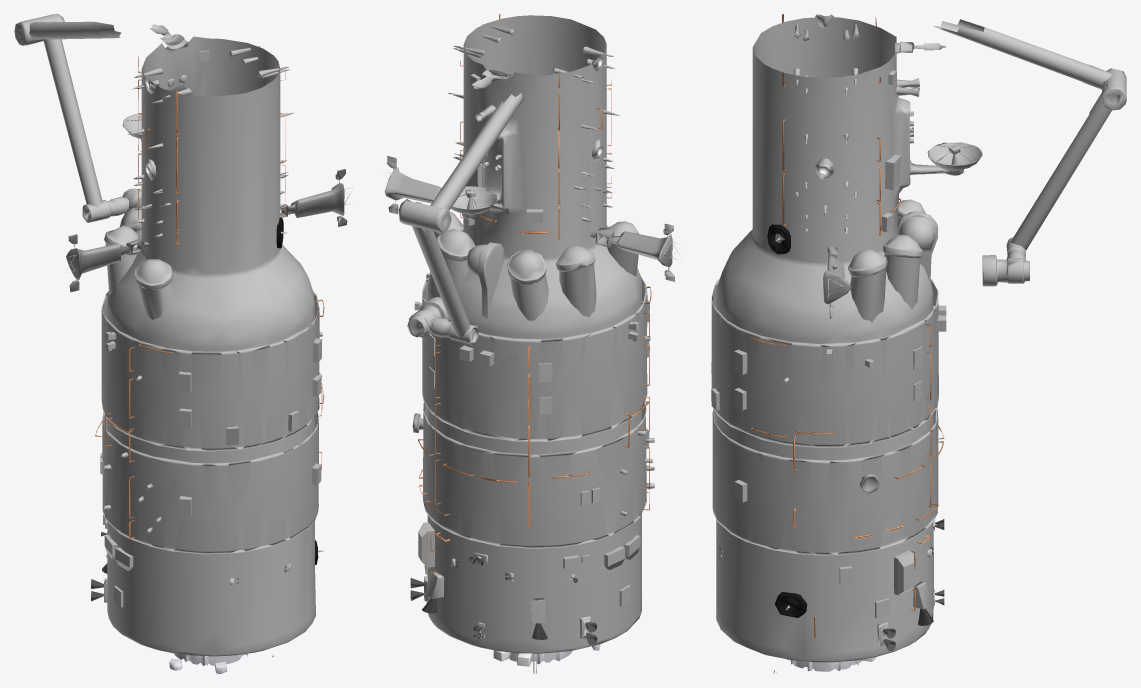
Rendered from tiangong-tianhe.glb.
3 renders of one model, left to right at view 1: azimuth 30°, elevation 25°; view 2: azimuth 150°, elevation 25°; view 3: azimuth 270°, elevation 25°, orthographic. The views are drawn at different scales.
Parts seen in each view (by area): view 1: tianhe; view 2: tianhe; view 3: tianhe.
Part boxes in pixels (x1,y1,x2,y2): tianhe: [14, 14, 352, 673]; tianhe: [384, 14, 679, 673]; tianhe: [711, 14, 1126, 673].
Size of the model in its own units: 6.35 by 12.31 by 7.55.
1 material, 1 textured.
